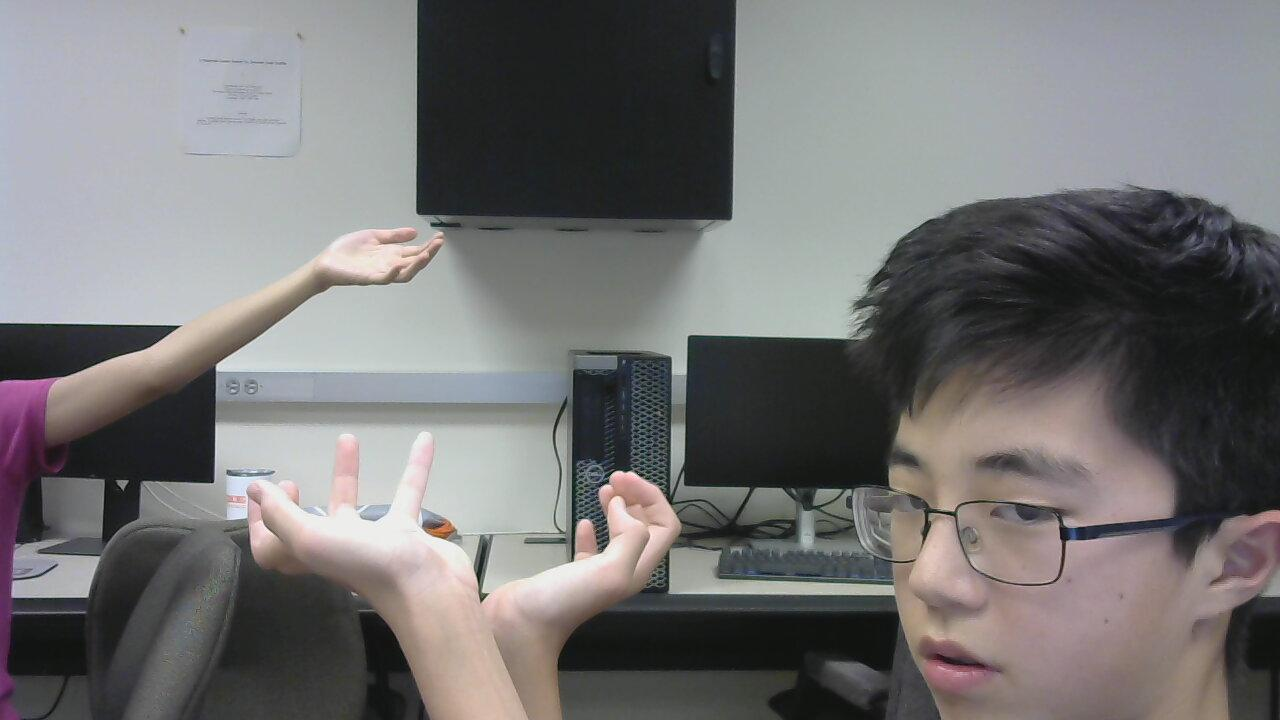hands: (224, 417, 458, 594), (482, 471, 688, 626), (317, 214, 447, 291)
